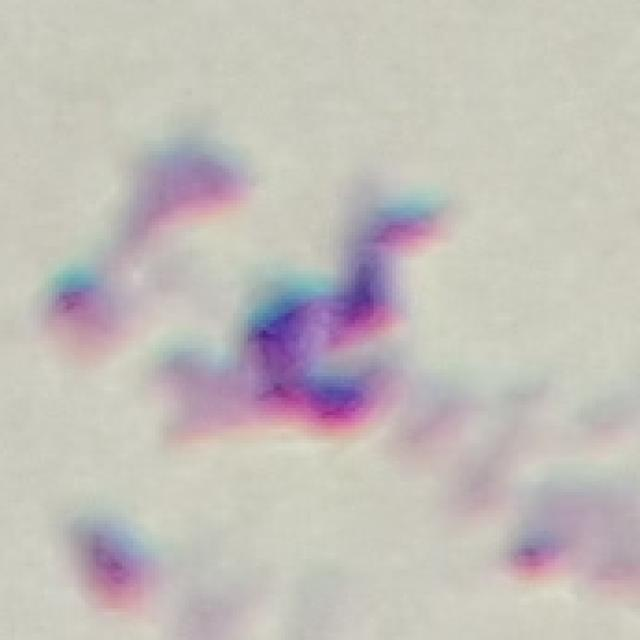non-sperm: (246, 203, 442, 438)
